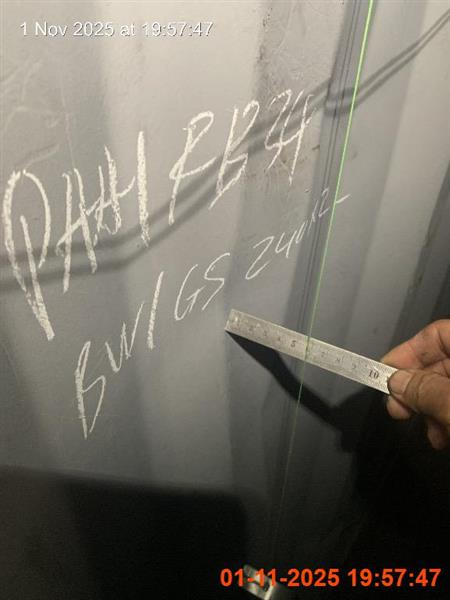bent: (224, 305, 449, 449), (378, 317, 449, 450)
